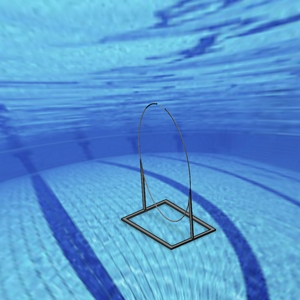circle: (121, 101, 216, 250)
